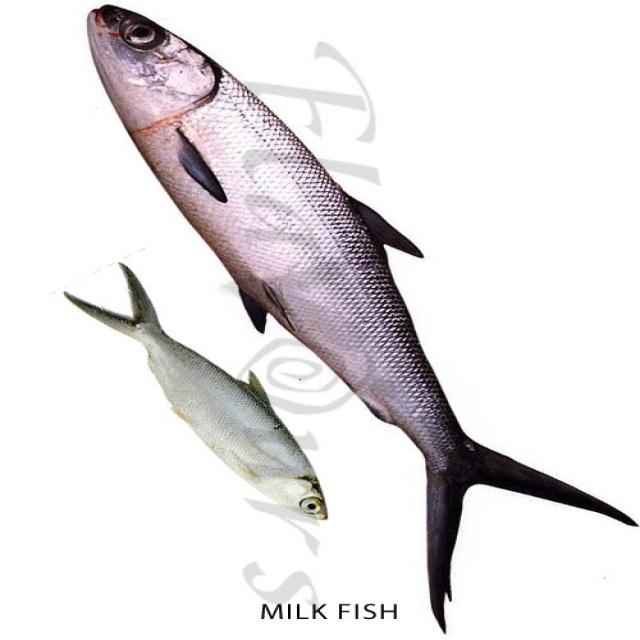Bangus: (42, 11, 636, 620)
